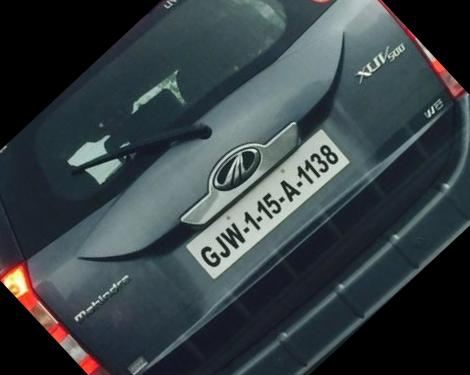plate: (165, 98, 382, 310)
